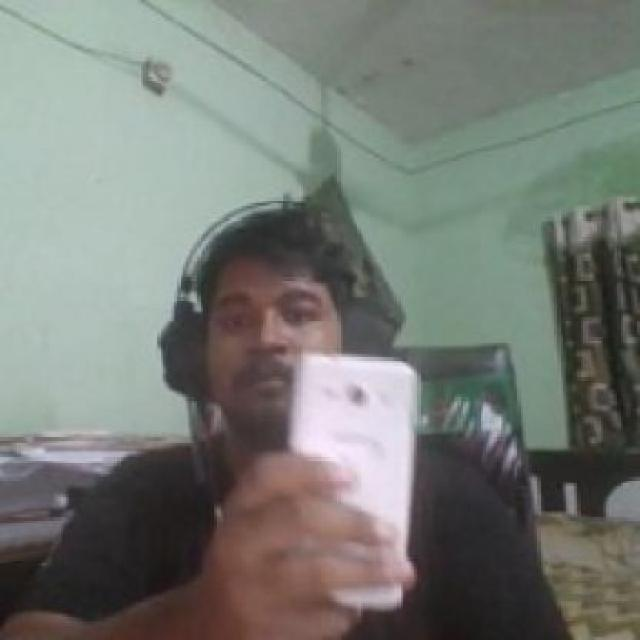Phone: (290, 354, 421, 610)
